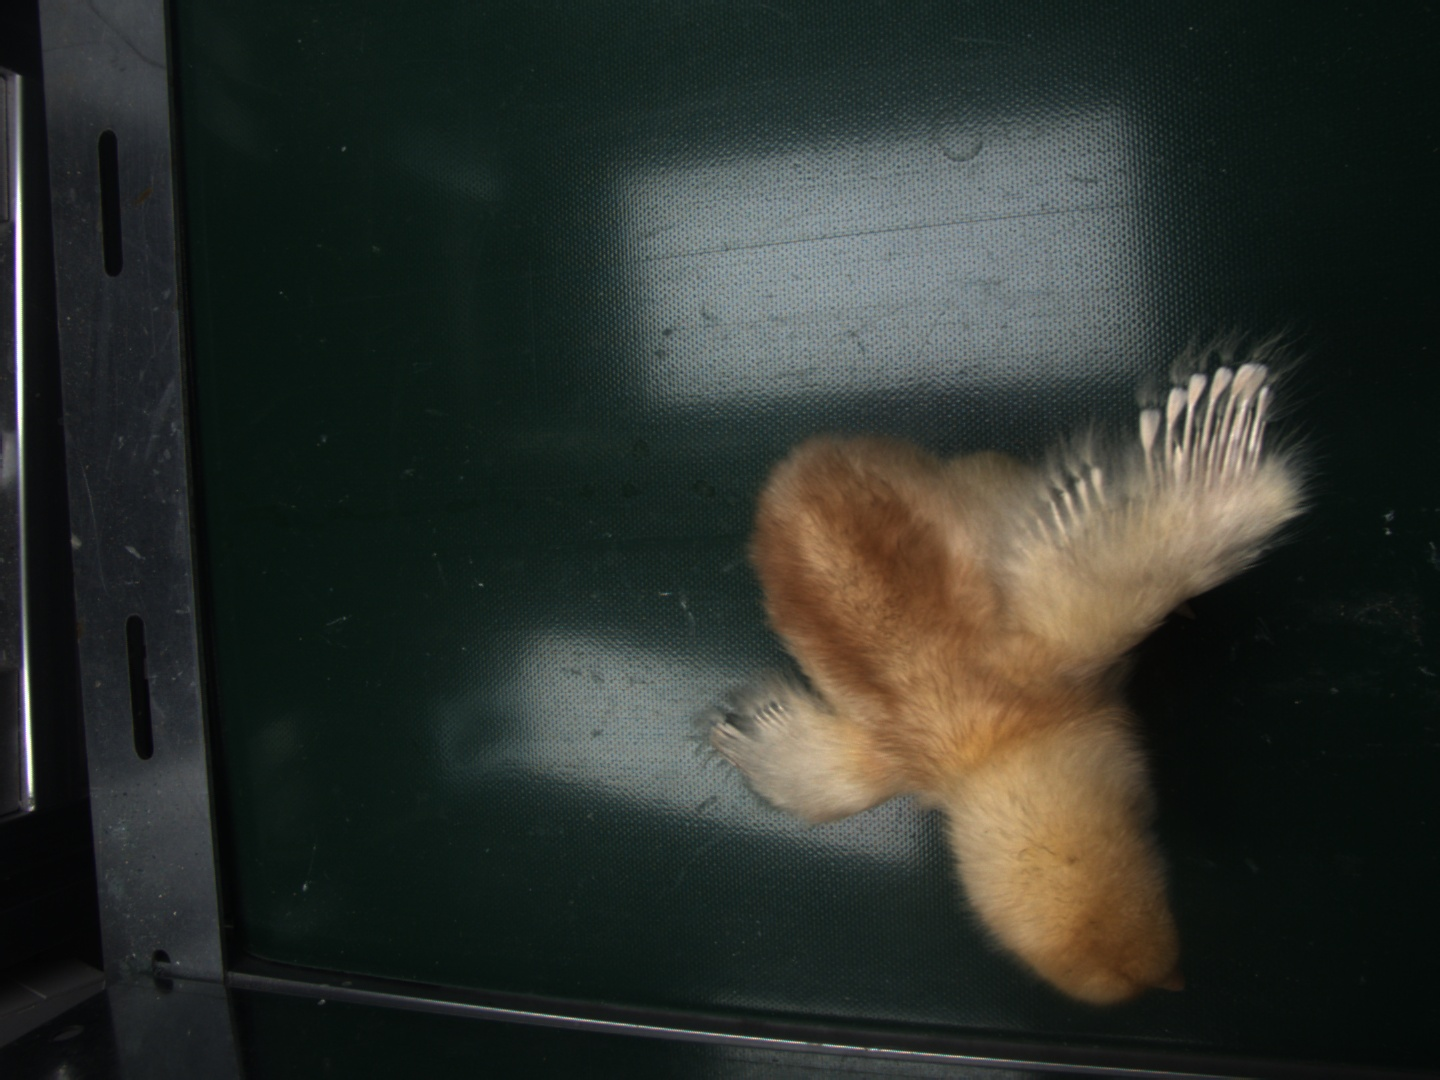female: (1151, 362, 1272, 472)
